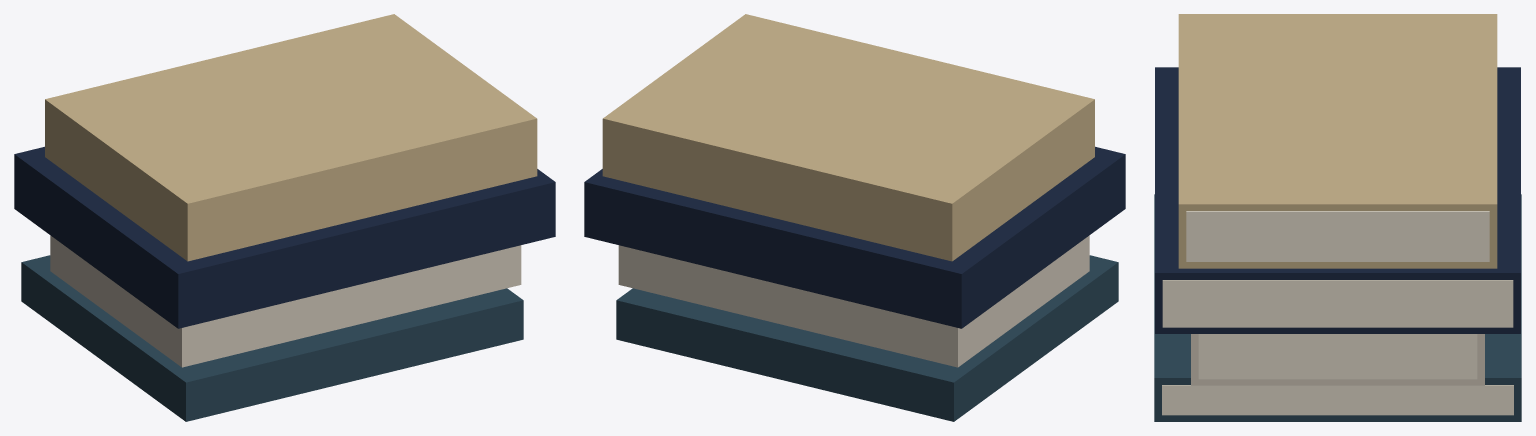
Rendered from LIT-BKS-std.glb.
3 views of the same model, side by side, from view 1: azimuth 30°, elevation 25°; view 2: azimuth 150°, elevation 25°; view 3: azimuth 270°, elevation 25° (orthographic). The views are drawn at different scales.
Visible parts, largest first — view 1: LIT-BKS-std; view 2: LIT-BKS-std; view 3: LIT-BKS-std.
Part boxes in pixels (box(x1,y1,x2,y2)): LIT-BKS-std: box(14, 14, 555, 421); LIT-BKS-std: box(584, 14, 1125, 421); LIT-BKS-std: box(1154, 14, 1521, 421).
Bounding box in the file's own units: 0.2558 × 0.1339 × 0.1928.
